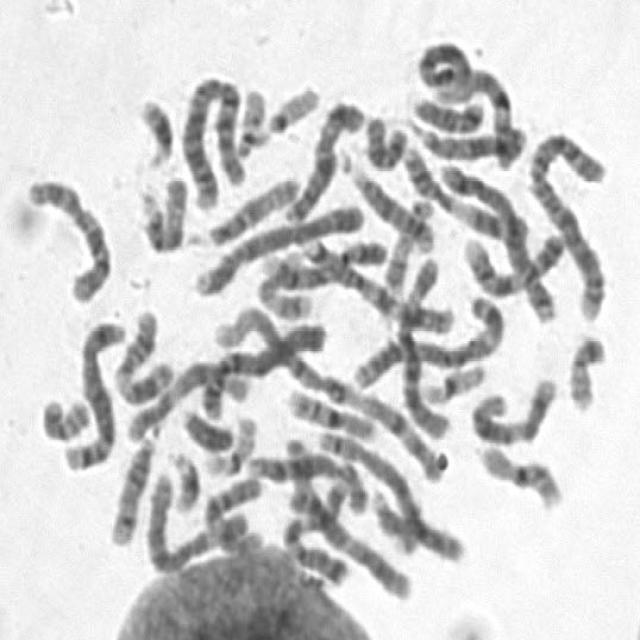A1: (205, 293, 456, 483), (413, 40, 517, 173)
A2: (519, 119, 610, 324), (174, 65, 248, 212)
A3: (278, 470, 416, 603), (344, 284, 508, 392)
B4: (185, 193, 368, 298), (190, 310, 328, 421)
B5: (431, 150, 562, 323), (56, 307, 126, 474)
C10: (18, 166, 114, 306), (195, 466, 267, 560)
C11: (392, 134, 524, 242), (106, 302, 174, 407)
C12: (119, 353, 252, 443), (464, 367, 559, 447)
C6: (138, 462, 259, 574), (391, 247, 452, 440)
C7: (295, 229, 457, 334), (276, 468, 356, 588)
C8: (309, 420, 425, 556), (239, 442, 371, 514)
C9: (454, 221, 568, 303), (253, 228, 392, 292)
D13: (363, 479, 470, 564), (408, 116, 528, 163)
D14: (340, 153, 437, 254), (101, 423, 161, 547)
D15: (199, 163, 301, 248), (131, 166, 190, 254)
E16: (470, 433, 566, 511), (280, 378, 378, 442)
E17: (377, 187, 437, 296), (251, 242, 316, 322)
E18: (403, 86, 487, 134), (356, 103, 409, 171)
F19: (198, 406, 260, 477), (415, 353, 489, 407)
F20: (560, 323, 608, 413), (33, 386, 93, 443)
G21: (128, 86, 178, 170), (161, 440, 202, 516)
G22: (258, 73, 322, 136), (228, 75, 272, 158)
X: (277, 90, 368, 226)
Y: (172, 396, 235, 453)
